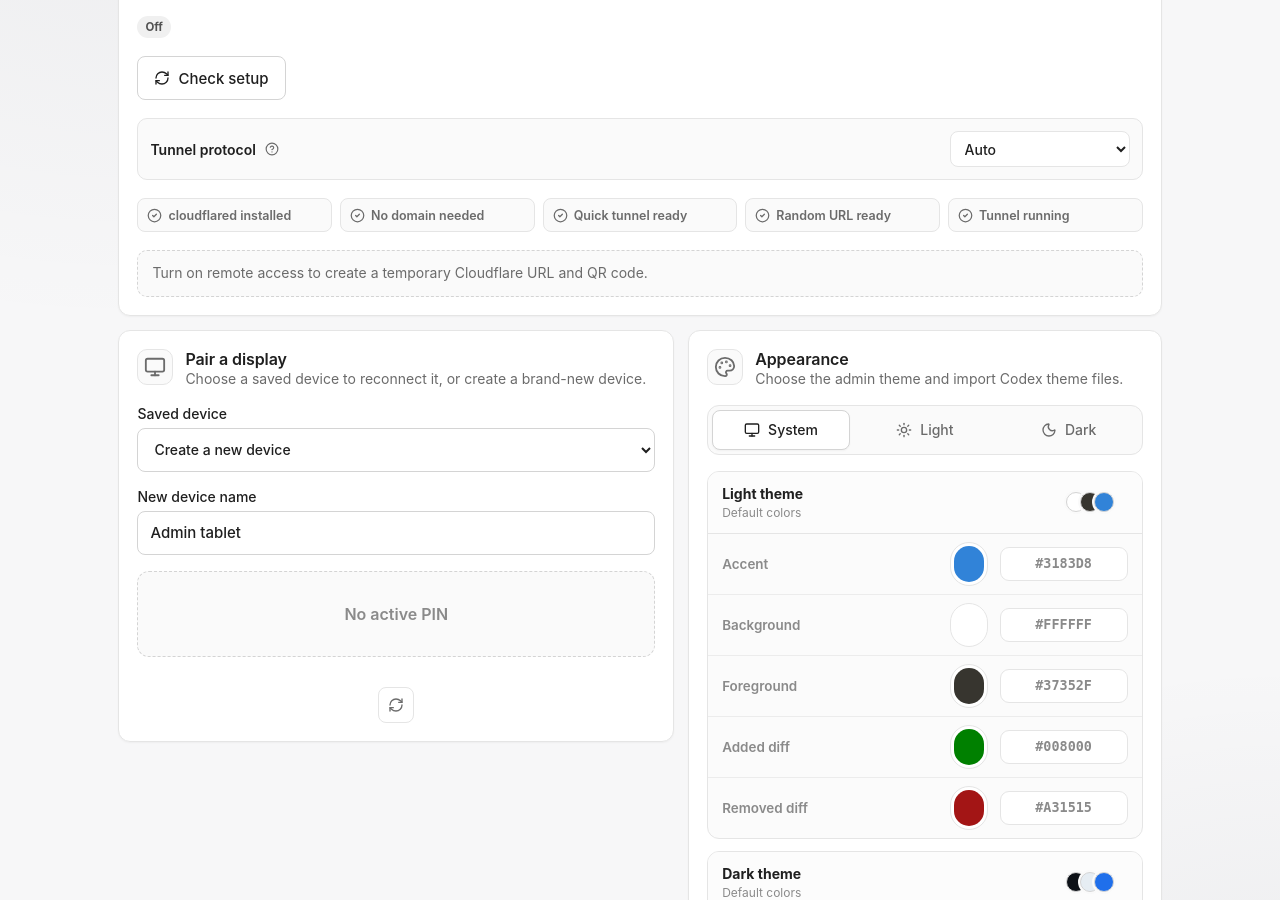
Agent Pulse tablet UI › lets admin choose a saved device before generating a reconnect PIN
This screenshot has width=1280, height=900.
(page scrolled)
Select "Desk tablet" in the dropdown labelled "Saved device" at (396, 450), box [137,428,655,472]
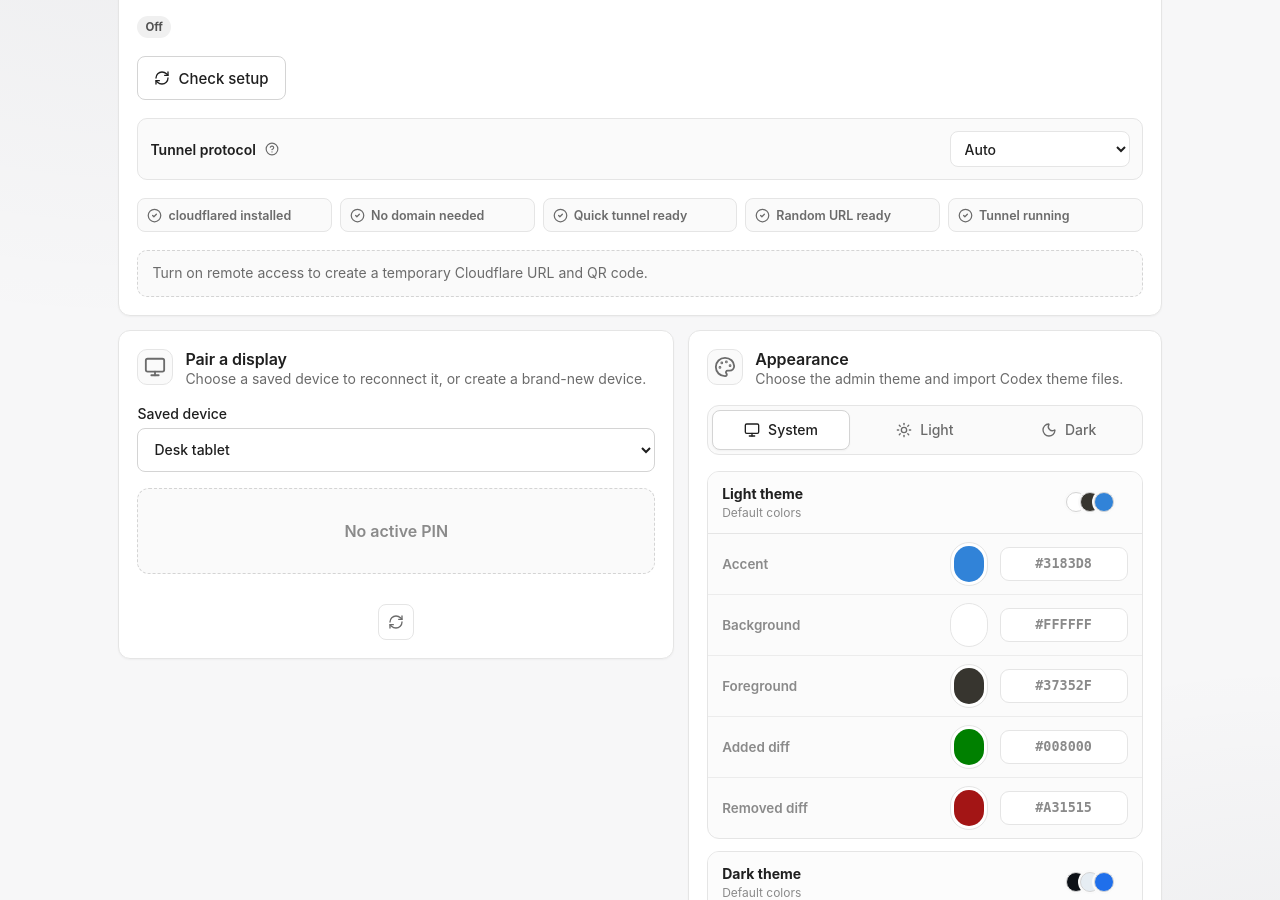
Click the button titled "Generate reconnect PIN" at (396, 622), box [378,604,414,640]
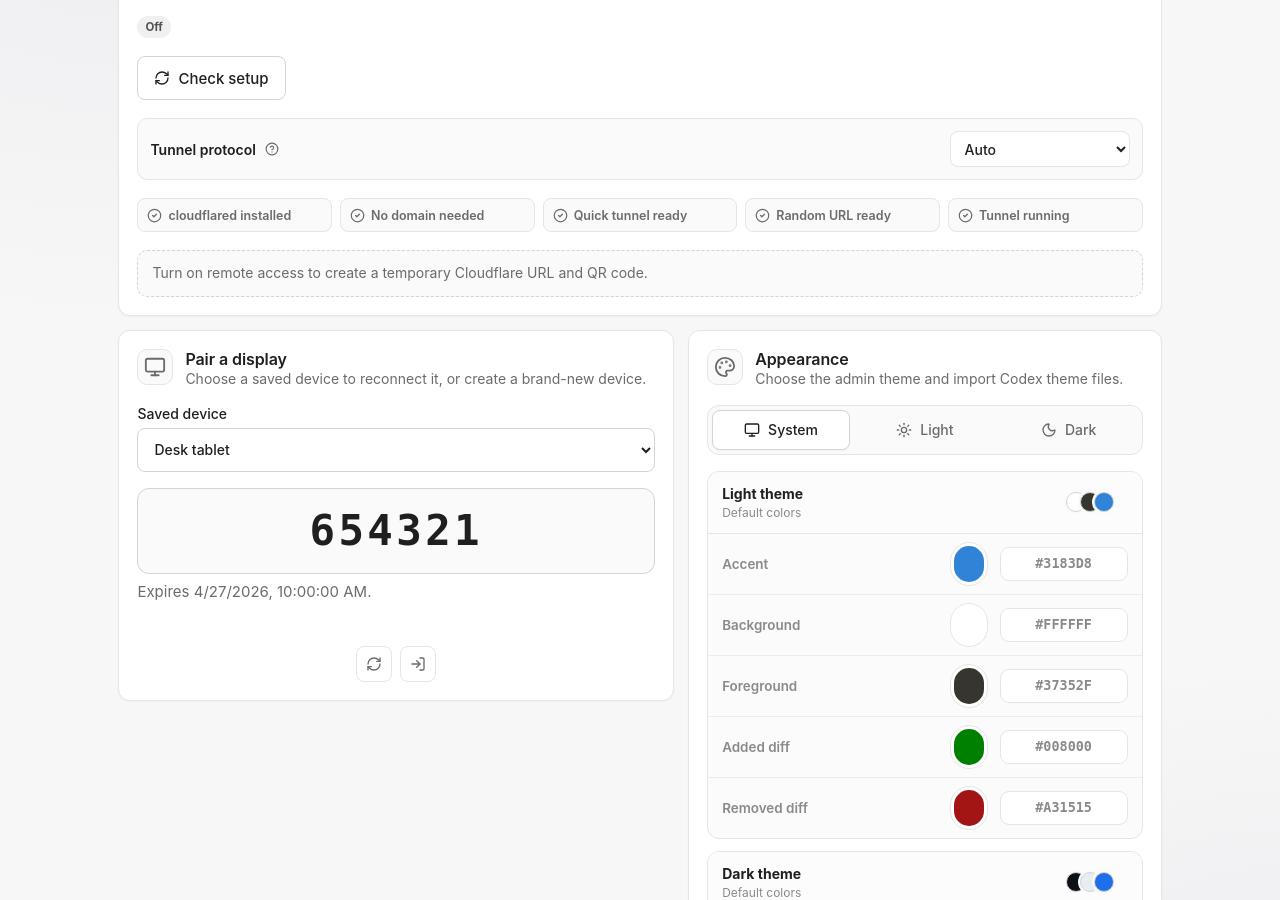
Result: the text "654321" is shown at [137,488,655,574]
